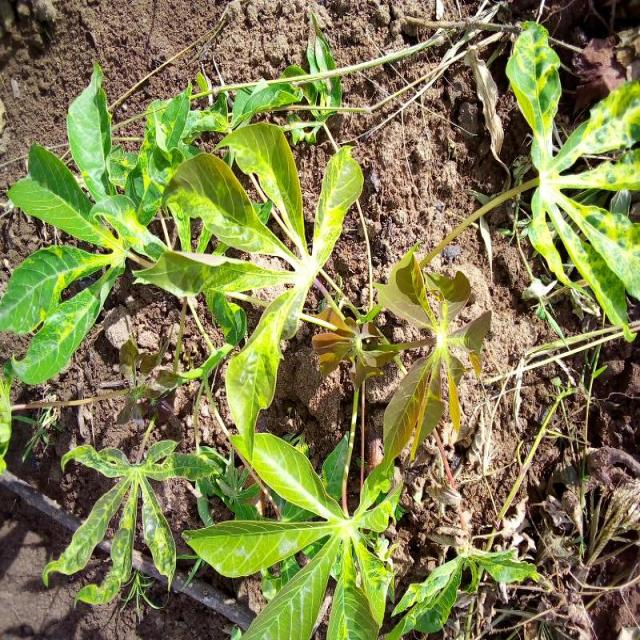cassava leaf: (1, 13, 637, 637)
